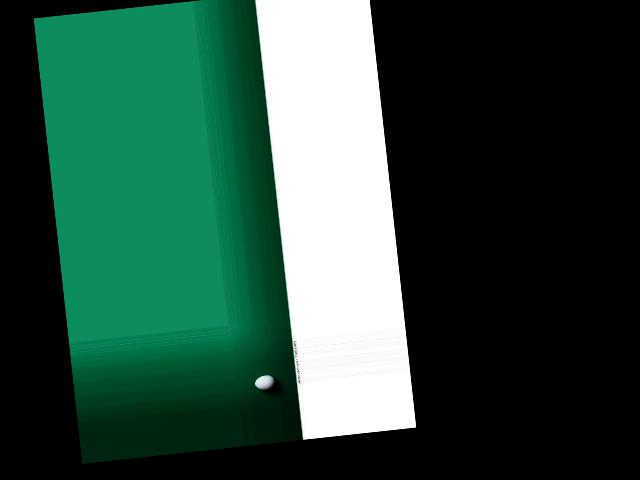egg: (254, 373, 276, 390)
